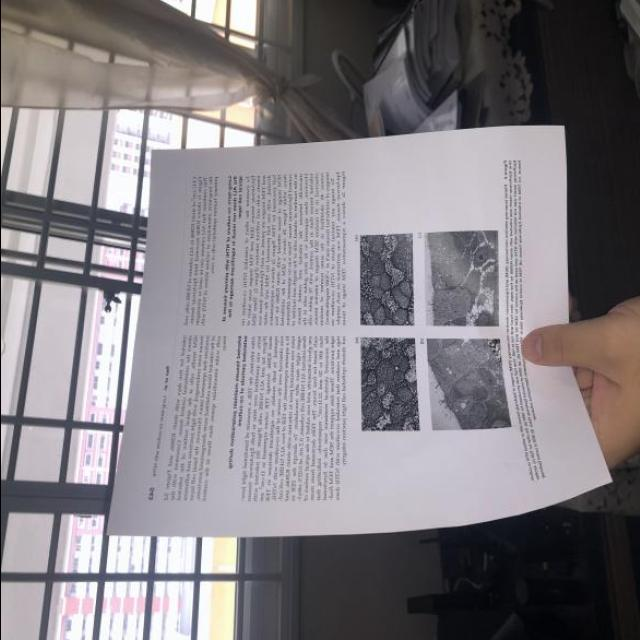kertas: (79, 119, 613, 555)
